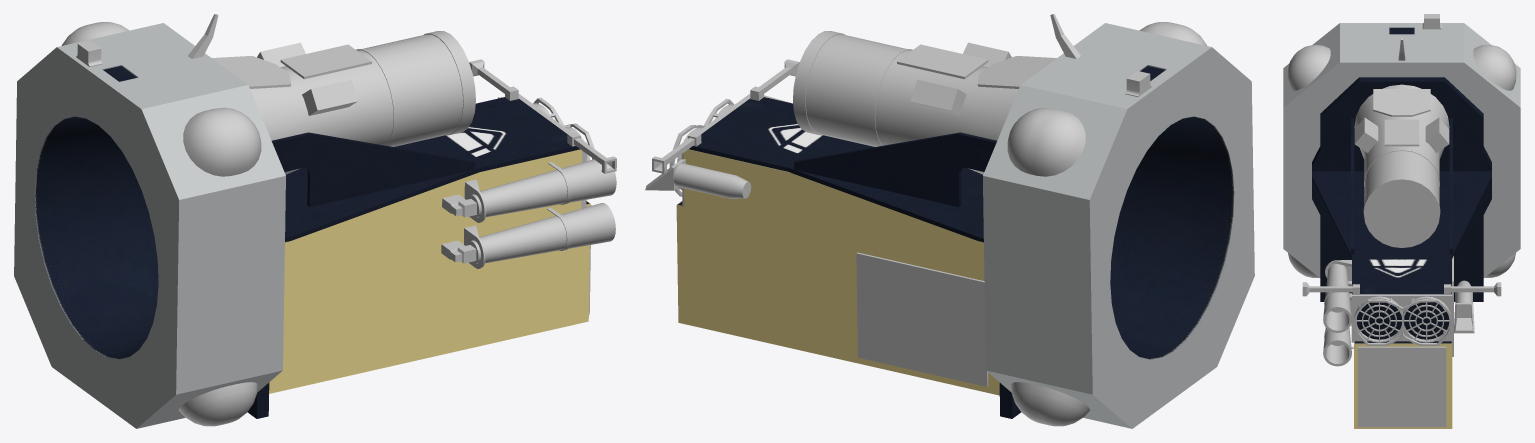
The model's file is cuerposatelite.obj.
The picture shows the model from 3 angles, left to right: view 1: azimuth 30°, elevation 25°; view 2: azimuth 150°, elevation 25°; view 3: azimuth 270°, elevation 25°; orthographic projection. The views are drawn at different scales.
Parts seen in each view (by area): view 1: cuerposatelite_Satellite2, cuerposatelite_Satellite.001; view 2: cuerposatelite_Satellite2, cuerposatelite_Satellite.001; view 3: cuerposatelite_Satellite2, cuerposatelite_Satellite.001.
Part boxes in pixels (x1,y1,x2,y2): cuerposatelite_Satellite2: (14, 23, 590, 428); cuerposatelite_Satellite.001: (61, 14, 616, 426); cuerposatelite_Satellite2: (676, 23, 1254, 428); cuerposatelite_Satellite.001: (645, 14, 1206, 426); cuerposatelite_Satellite2: (1283, 23, 1520, 428); cuerposatelite_Satellite.001: (1287, 14, 1516, 427).
Size of the model in its own units: 1.23 by 0.8981 by 0.7202.
